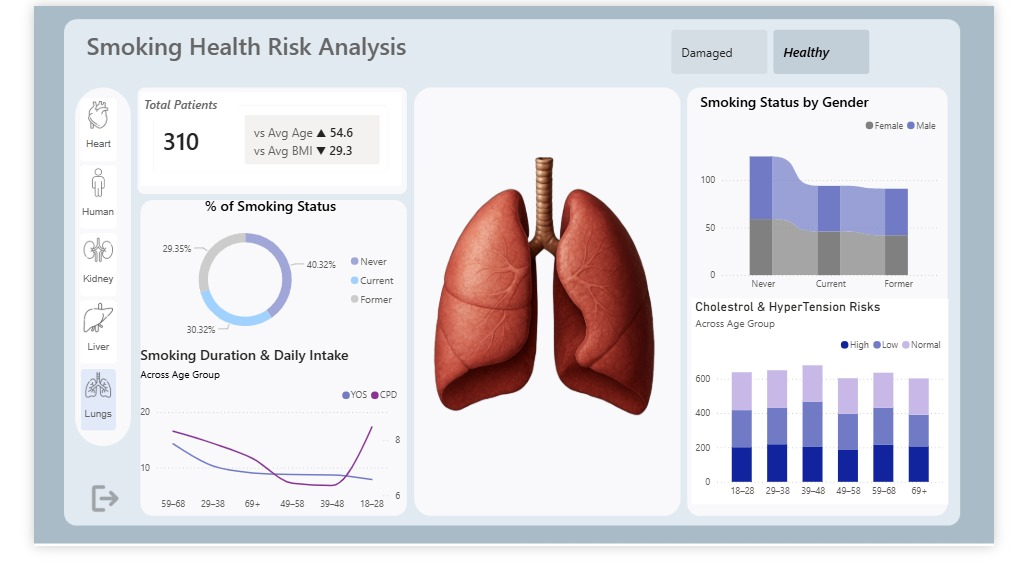

The dashboard page shown, as its layout file describes it:
{"tool":"powerbi","page":{"name":"Health_Care_Dashboard","canvas":[1280,720],"ordinal":0},"visuals":[{"type":"cardVisual","fields":{"Data":["CountNonNull(health_dataset.Patient_ID)"]},"box":[141.7,115.3,347.7,124.7],"z":0},{"type":"textbox","box":[141.7,115.3,132.3,35.9],"z":1000},{"type":"advancedSlicerVisual","fields":{"Values":["condition.Organ_Condition"]},"box":[844.7,26.5,275.9,69.9],"z":2000},{"type":"ChicletSlicer1448559807354","fields":{"Category":["Organs.Organ"],"Image":["Organs.Icon_URL"]},"box":[52.9,115.3,88.8,480],"z":3000},{"type":"image","box":[517.1,117.1,327.1,547.1],"z":4000},{"type":"donutChart","title":"% of Smoking Status","fields":{"Category":["health_dataset.Smoking_Status"],"Y":["CountNonNull(health_dataset.Smoking_Status)"]},"box":[136.1,253.2,357.2,198.4],"z":5000},{"type":"lineChart","title":"Smoking Duration & Daily Intake","fields":{"Category":["health_dataset.Age Group"],"Y":["Avg(health_dataset.Years_of_Smoking)"],"Y2":["Avg(health_dataset.Cigarettes_Per_Day)"]},"box":[136.1,451.7,357.2,230.6],"z":6000},{"type":"ribbonChart","title":"Smoking Status by Gender","fields":{"Category":["health_dataset.Smoking_Status"],"Y":["CountNonNull(health_dataset.Patient_ID)"],"Series":["health_dataset.Gender"]},"box":[882.5,115.3,328.8,274],"z":7000},{"type":"columnChart","title":"Cholestrol & HyperTension Risks","fields":{"Category":["health_dataset.Age Group"],"Y":["Avg(health_dataset.Cholesterol_Level)"],"Series":["health_dataset.BP_Risk"]},"box":[876.9,389.3,342,274],"z":8000},{"type":"textbox","box":[64.3,26.5,500.8,69.9],"z":9000}]}

Visuals, with their boxes in screenshot pixels (x1, y1, x2, y2), scaled from the page's 1280x720 canvas onto the 1022x580 screenshot:
cardVisual - CountNonNull(health_dataset.Patient_ID): left=113, top=93, right=391, bottom=193
textbox: left=113, top=93, right=219, bottom=122
advancedSlicerVisual - condition.Organ_Condition: left=674, top=21, right=895, bottom=78
ChicletSlicer1448559807354 - Organs.Organ x Organs.Icon_URL: left=42, top=93, right=113, bottom=480
image: left=413, top=94, right=674, bottom=535
"% of Smoking Status" donutChart: left=109, top=204, right=394, bottom=364
"Smoking Duration & Daily Intake" lineChart: left=109, top=364, right=394, bottom=550
"Smoking Status by Gender" ribbonChart: left=705, top=93, right=967, bottom=314
"Cholestrol & HyperTension Risks" columnChart: left=700, top=314, right=973, bottom=534
textbox: left=51, top=21, right=451, bottom=78
